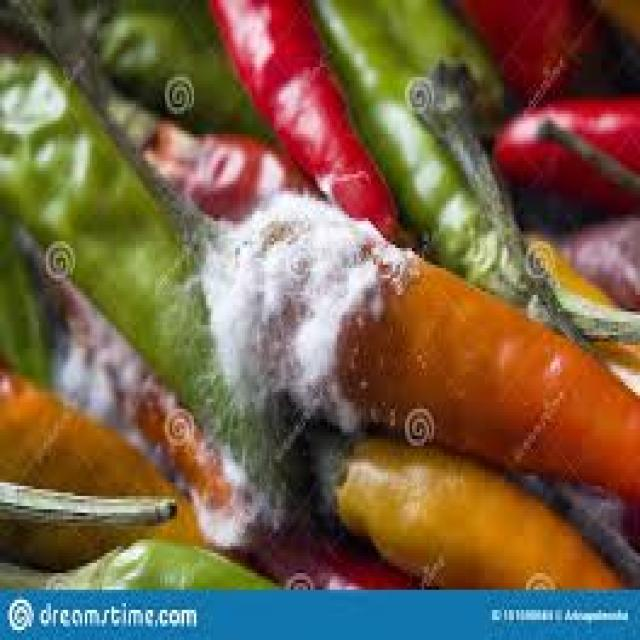biodegradable: (0, 0, 637, 586), (14, 0, 637, 499), (310, 0, 638, 352), (0, 43, 223, 429), (252, 416, 638, 587), (37, 17, 323, 204), (37, 255, 236, 503), (211, 0, 397, 238), (0, 351, 196, 576), (2, 0, 269, 137), (407, 60, 531, 285), (199, 479, 431, 583), (456, 101, 638, 208), (514, 225, 638, 369), (451, 0, 606, 94), (131, 372, 240, 496), (0, 536, 286, 583), (386, 0, 507, 107), (531, 469, 637, 583), (536, 208, 638, 315), (0, 473, 177, 526), (0, 215, 44, 389), (589, 0, 637, 60)
